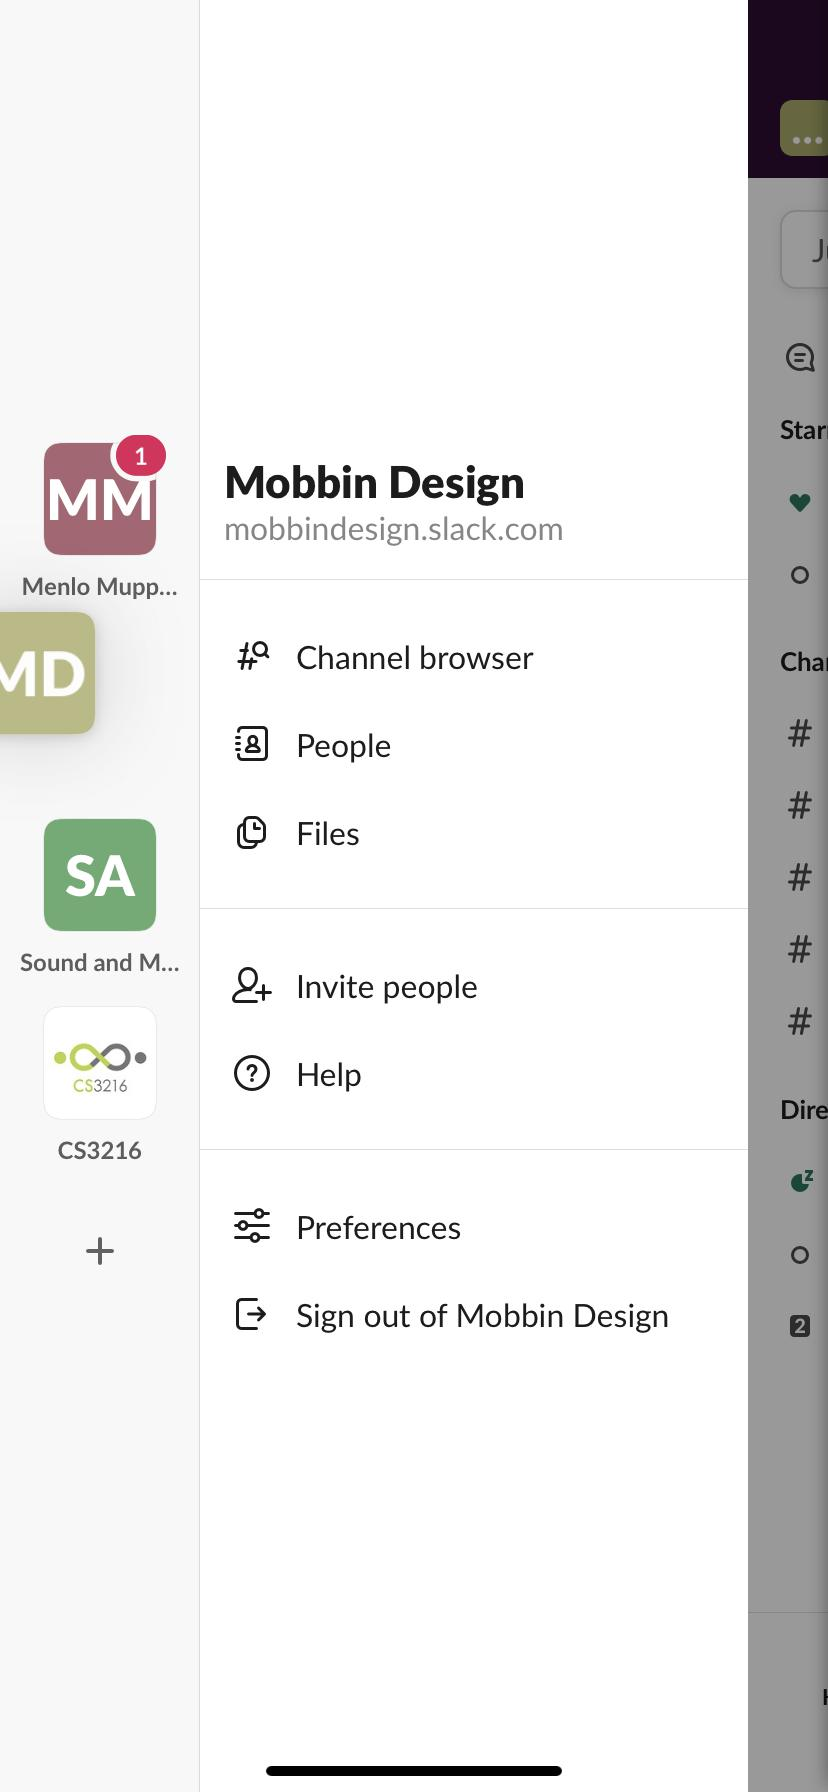Buttons: (49, 1202, 151, 1301)
